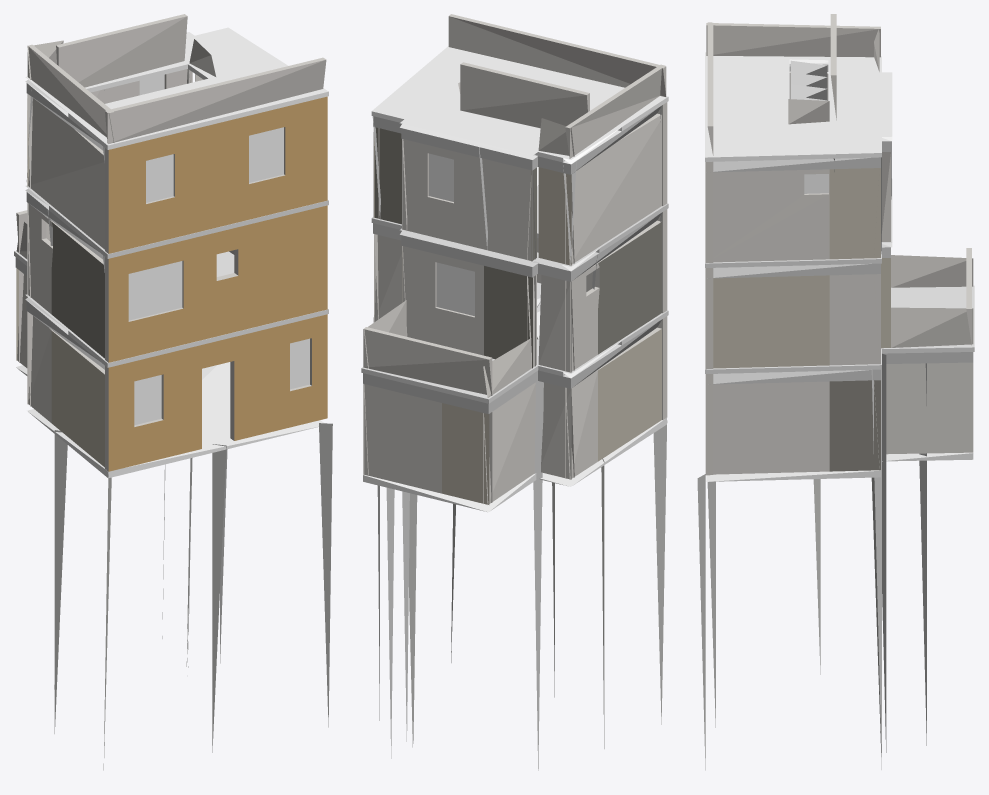
The picture shows the model from 3 angles, left to right: view 1: azimuth 30°, elevation 25°; view 2: azimuth 150°, elevation 25°; view 3: azimuth 270°, elevation 25°; orthographic projection. The views are drawn at different scales.
Visible parts, largest first — view 1: F_2; view 2: F_2; view 3: F_2.
Boxes of the visible parts, x1,y1,x2,y2 form: F_2: (14,14,332,770); F_2: (361,14,668,770); F_2: (697,14,974,770).
Size of the model in its own units: 6.06 by 17.98 by 6.75.
